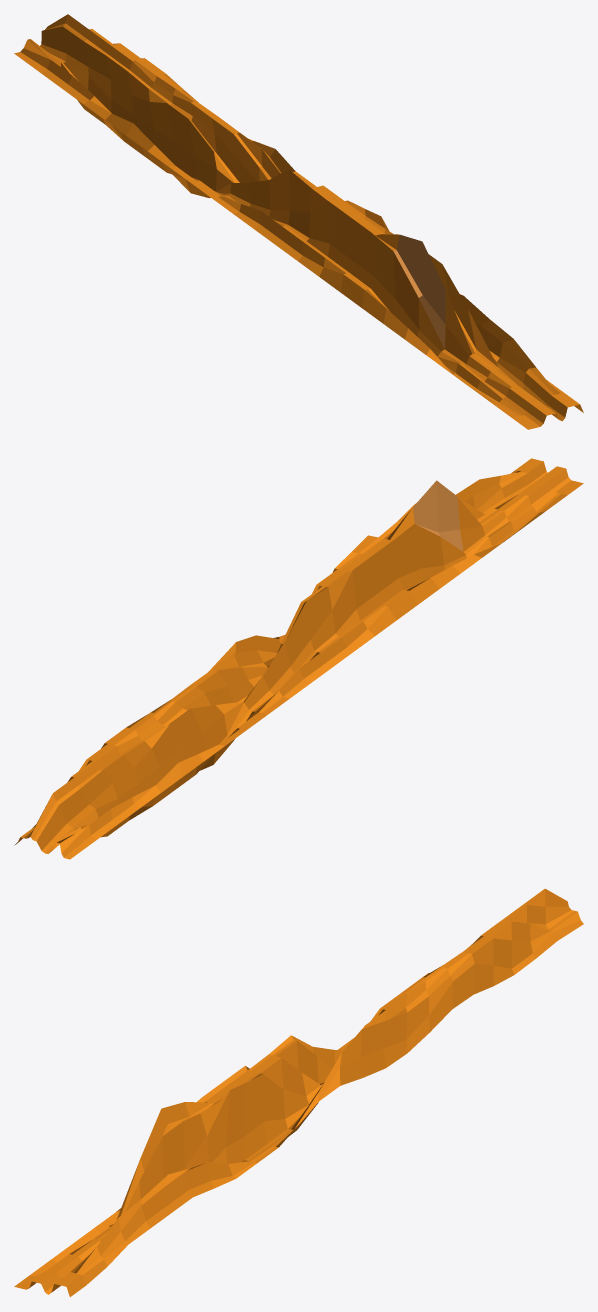
File: Dunas.fbx
3 renders of one model, top to bottom at view 1: azimuth 30°, elevation 25°; view 2: azimuth 150°, elevation 25°; view 3: azimuth 330°, elevation 25°, orthographic.
Parts seen in each view (by area): view 1: Plane; view 2: Plane; view 3: Plane.
Boxes of the visible parts, <box> form: Plane: <box>14,14,583,429</box>; Plane: <box>14,458,583,859</box>; Plane: <box>14,888,583,1296</box>.
Size of the model in its own units: 100 by 200 by 1600.
Materials: 1 (1 with a texture image).
